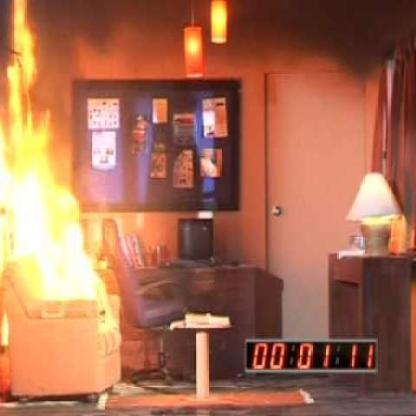fire: (3, 0, 109, 312)
smoke: (41, 0, 416, 238)
